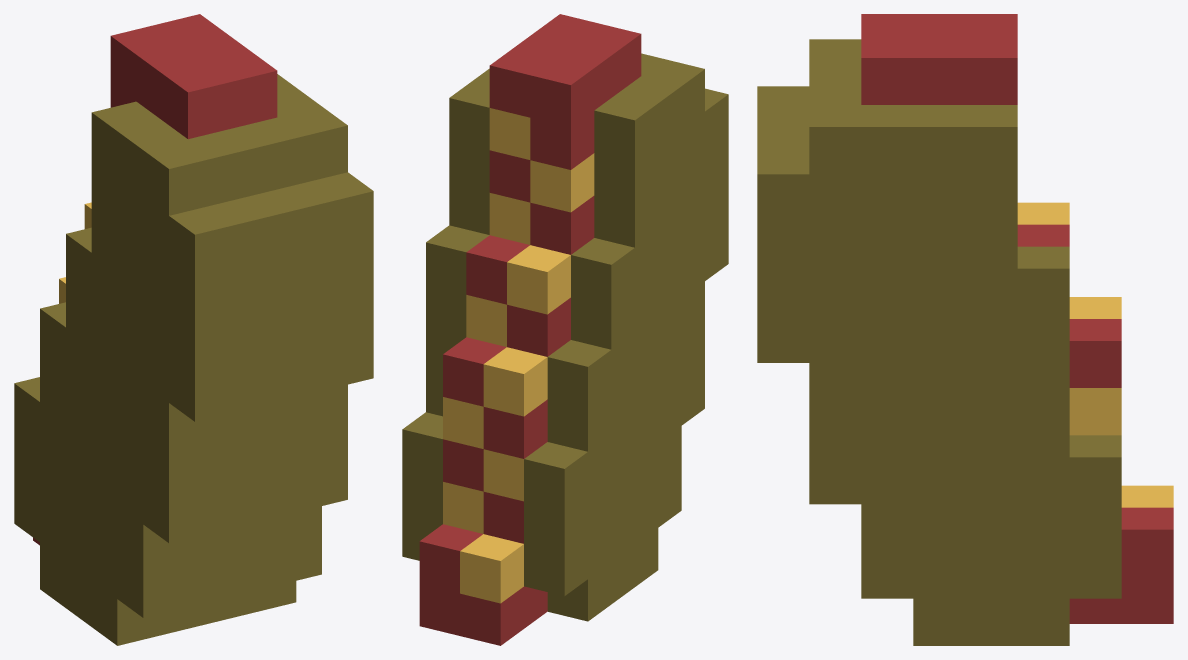
File: id-beach-hotdog2.obj
The picture shows the model from 3 angles, left to right: view 1: azimuth 30°, elevation 25°; view 2: azimuth 150°, elevation 25°; view 3: azimuth 270°, elevation 25°; orthographic projection. The views are drawn at different scales.
Bounding box in the file's own units: 4 × 12 × 8.
1 material, 1 textured.
